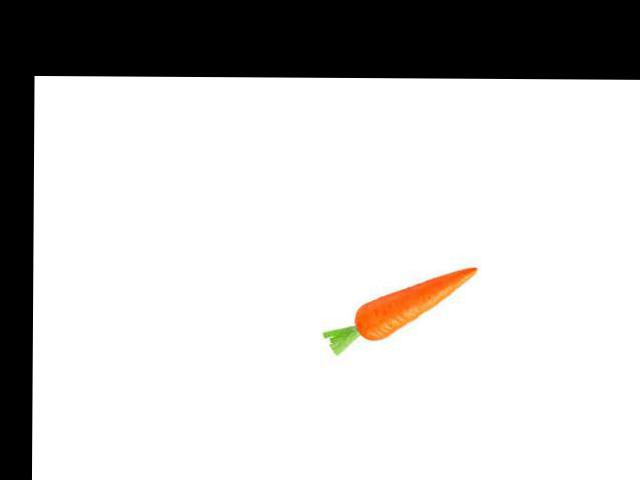carrot: (350, 263, 479, 345)
